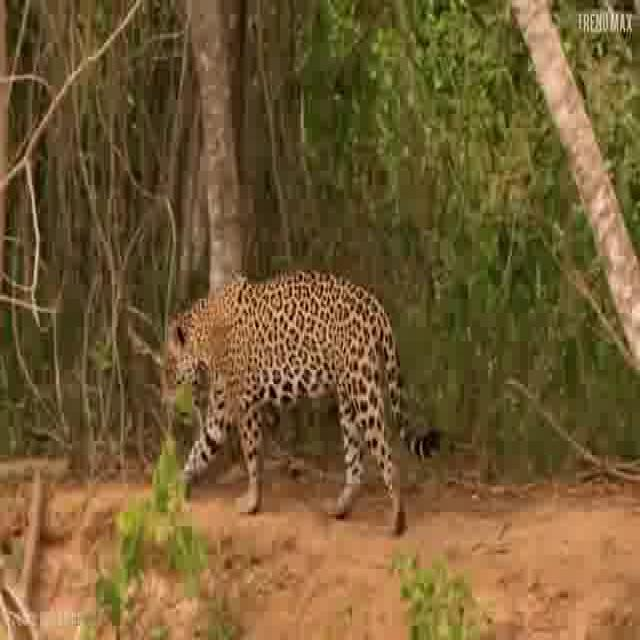Jaguar: (163, 268, 449, 537)
